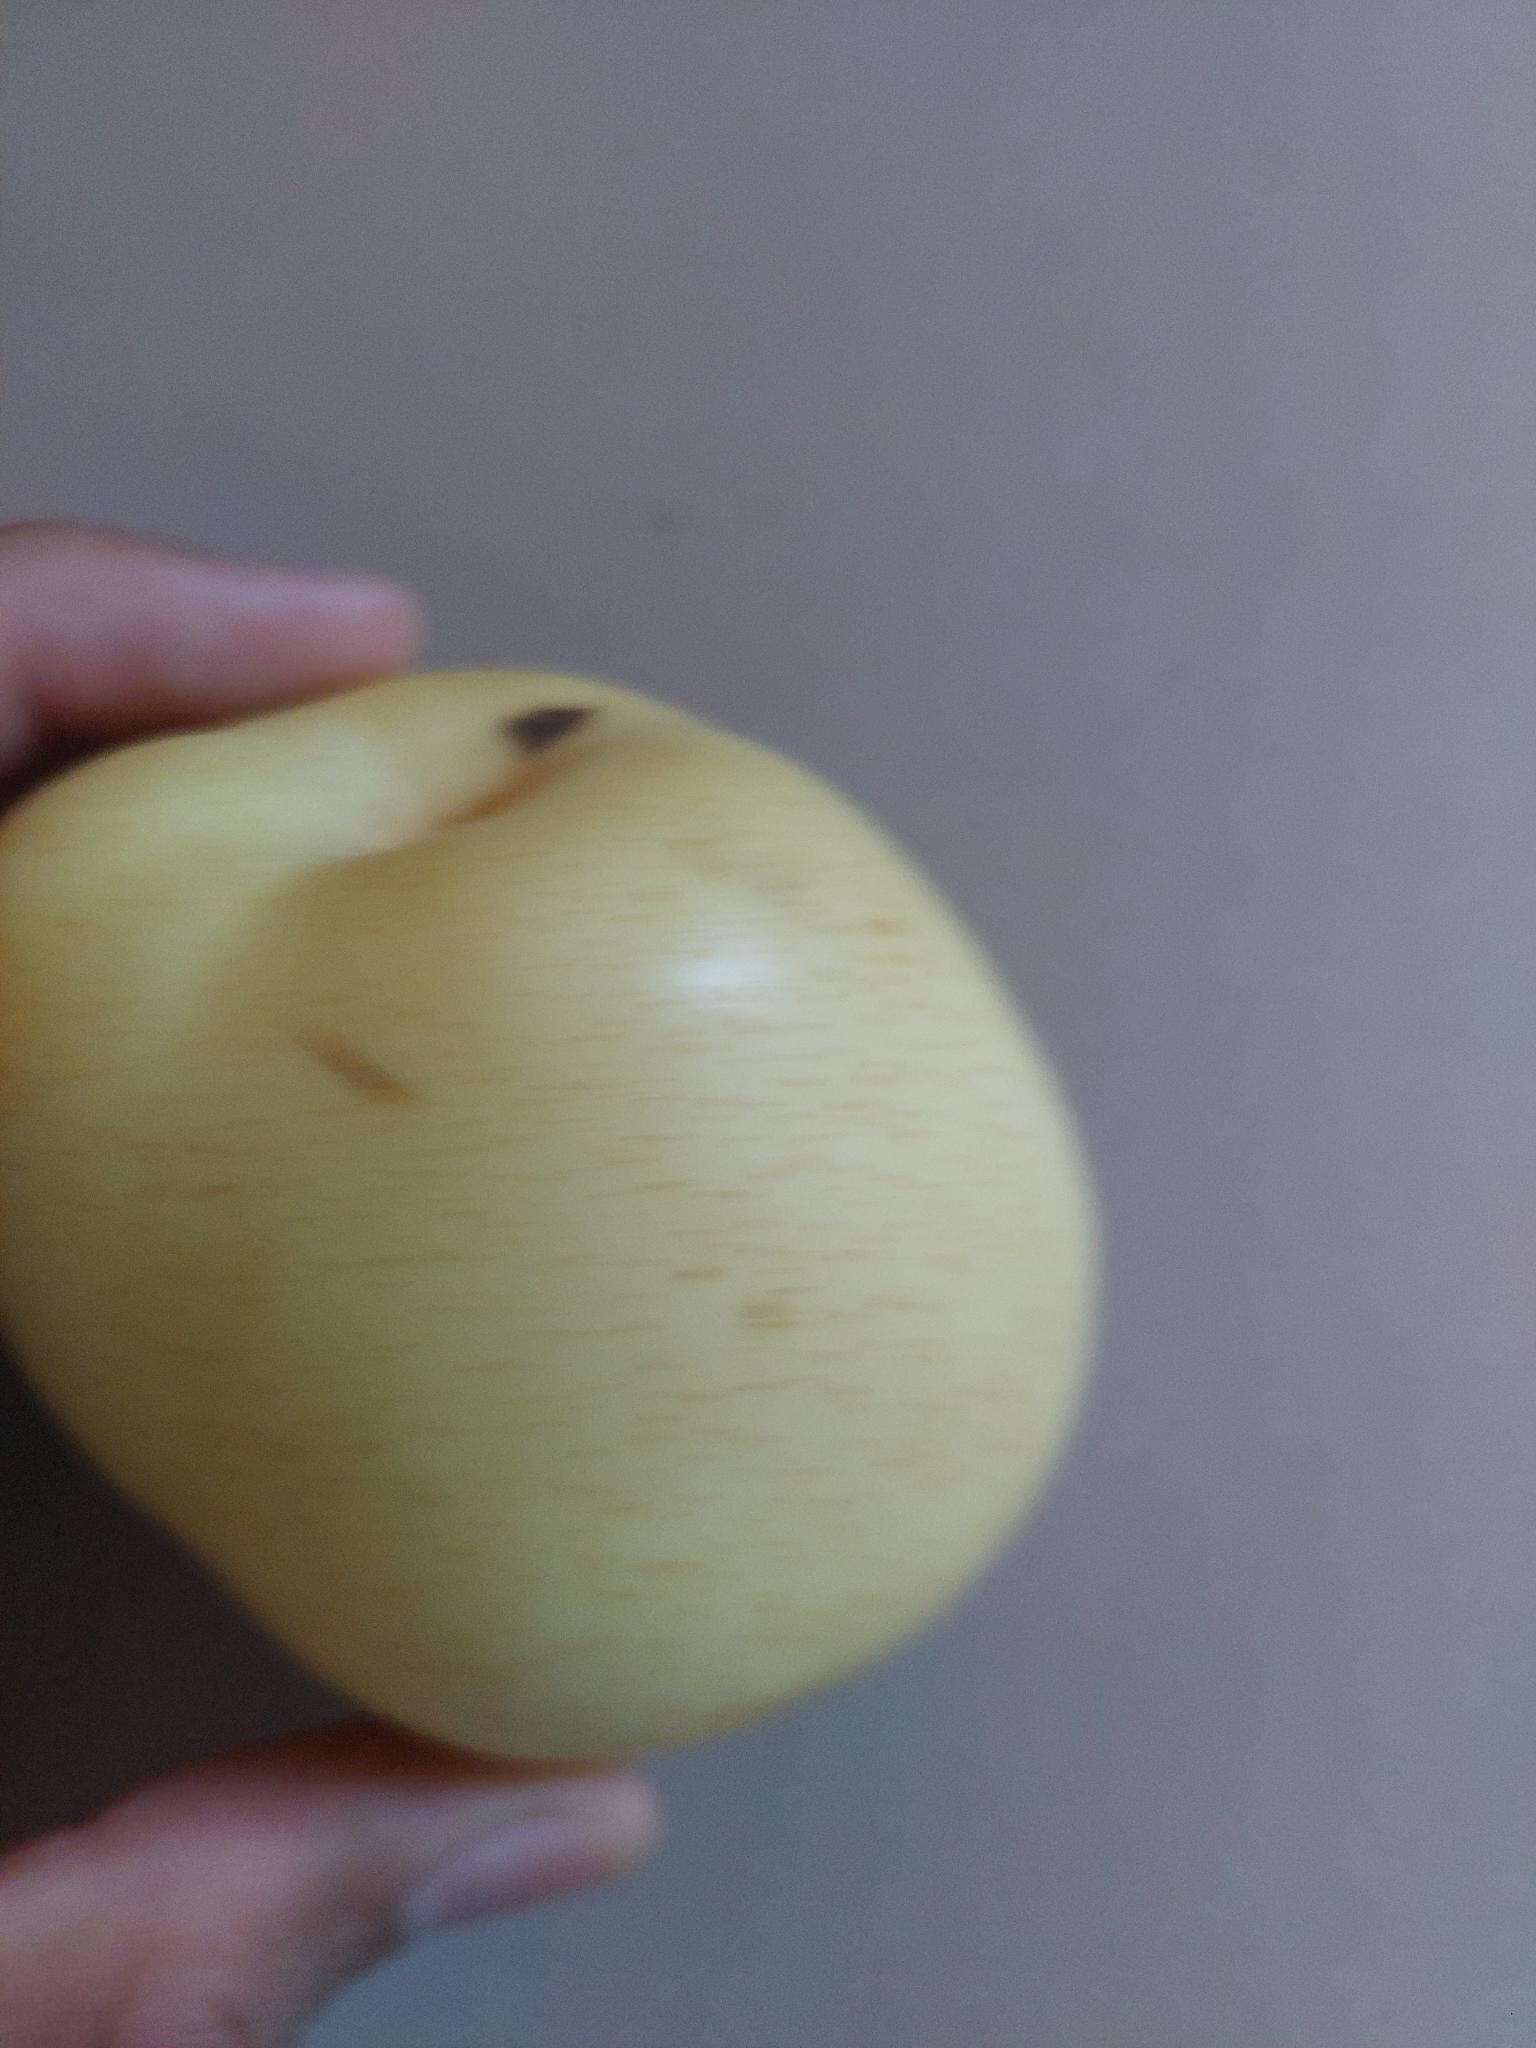Good Pear: (5, 648, 1134, 1780)
